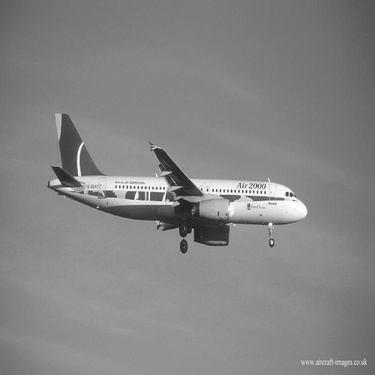airplane: (42, 104, 312, 258)
